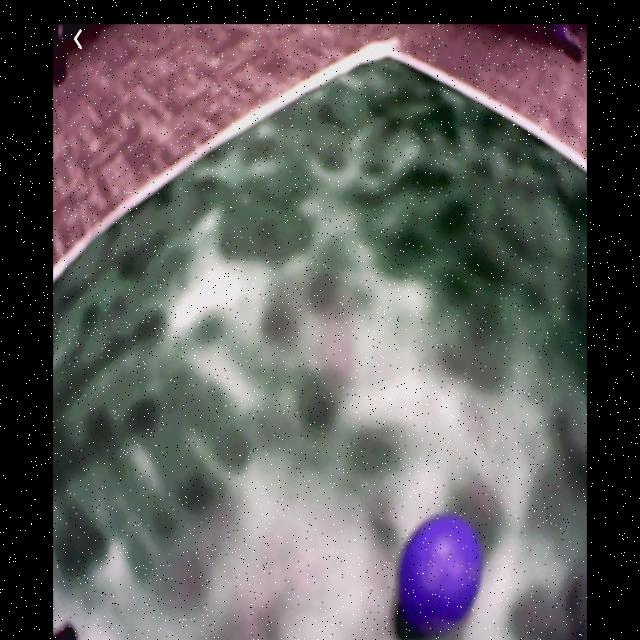ball: (398, 511, 480, 632)
